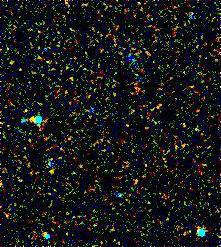star: (17, 105, 47, 135)
